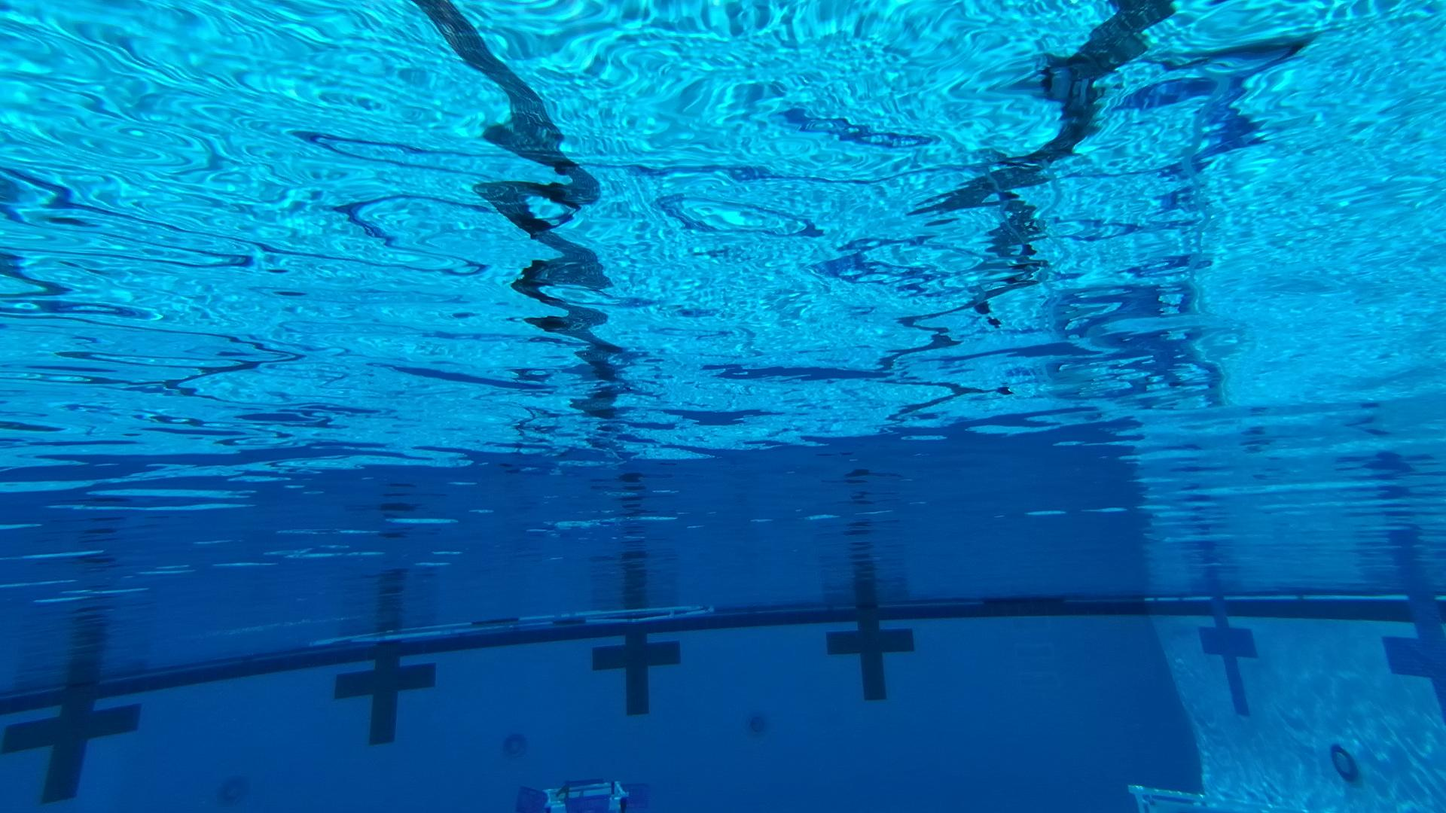coral-box-side: (515, 771, 642, 813)
